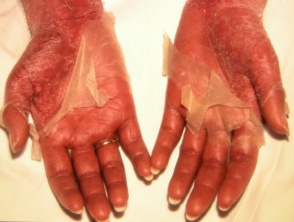SJS-TEN: (0, 0, 156, 222), (147, 0, 294, 222)
